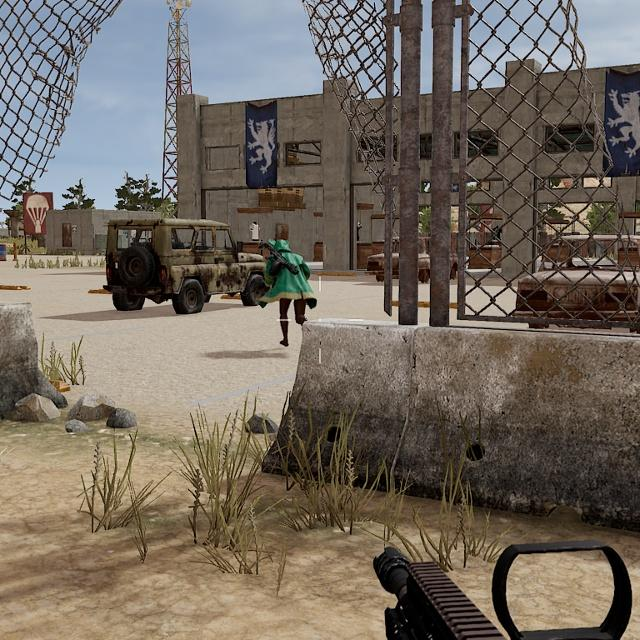head: (269, 236, 294, 254)
people: (260, 236, 317, 350)
